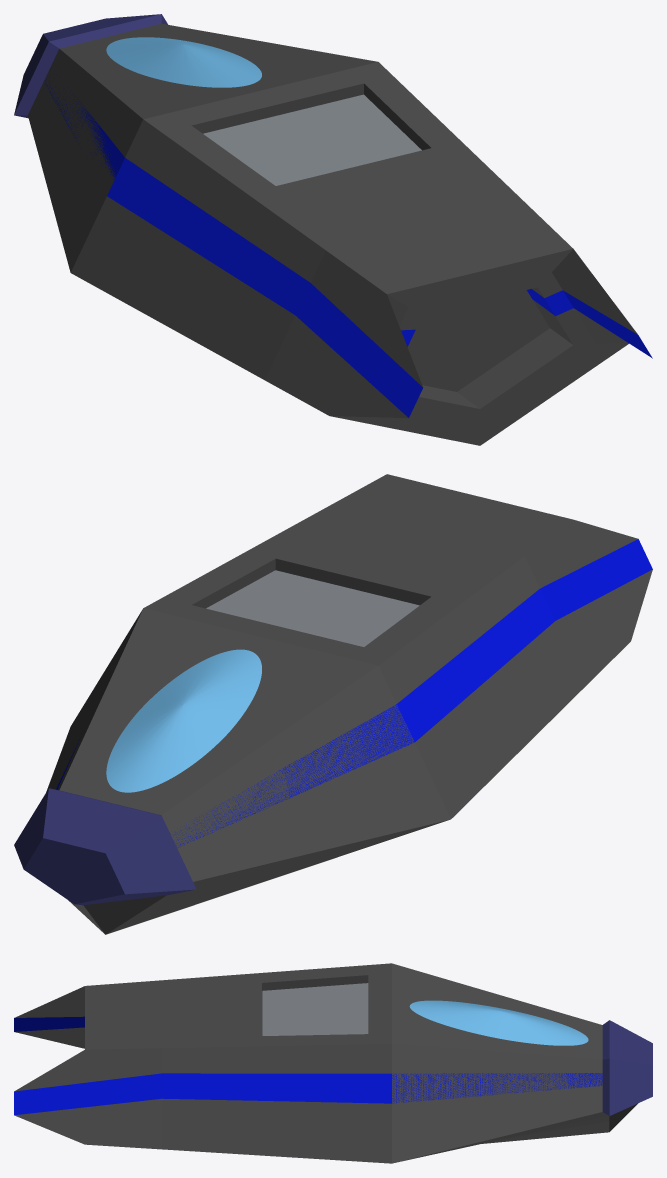
File: cockpit1.glb
3 renders of one model, top to bottom at view 1: azimuth 30°, elevation 25°; view 2: azimuth 150°, elevation 25°; view 3: azimuth 270°, elevation 25°, orthographic. The views are drawn at different scales.
Visible parts, largest first — view 1: Rocket, Circle, NoseCone; view 2: Rocket, NoseCone, Circle; view 3: Rocket, Circle, NoseCone.
Part boxes in pixels (bbox=[...]): Rocket: bbox=[28, 23, 652, 445]; Circle: bbox=[106, 37, 261, 87]; NoseCone: bbox=[14, 14, 167, 118]; Rocket: bbox=[46, 474, 652, 934]; NoseCone: bbox=[14, 788, 196, 905]; Circle: bbox=[106, 649, 261, 792]; Rocket: bbox=[14, 963, 637, 1163]; Circle: bbox=[409, 1000, 588, 1045]; NoseCone: bbox=[602, 1020, 652, 1115].
Size of the model in its own units: 2.4 by 1.18 by 4.99.
